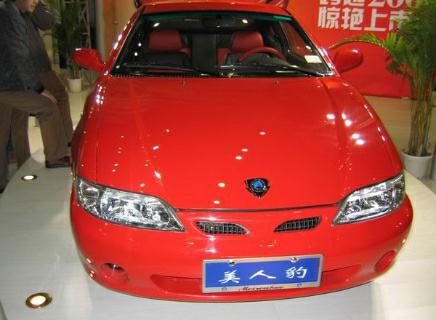吉利汽车-美人豹: (62, 2, 419, 306)
